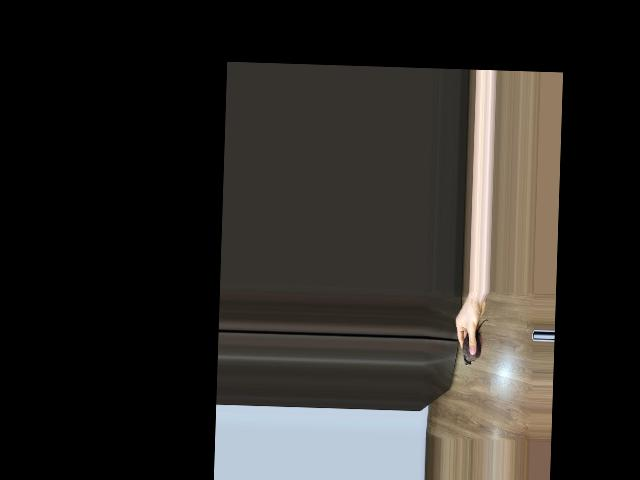beet: (462, 319, 488, 366)
